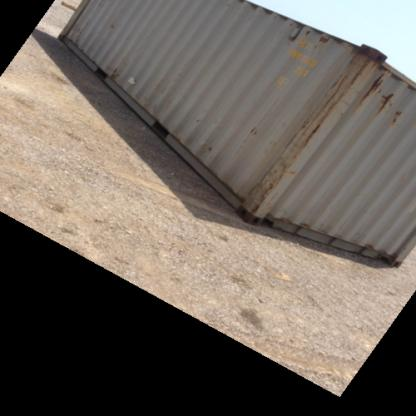Damage: (247, 150, 299, 221), (304, 75, 344, 142), (365, 70, 404, 124), (107, 61, 148, 94), (297, 24, 330, 45), (241, 117, 262, 140), (203, 136, 217, 160)
